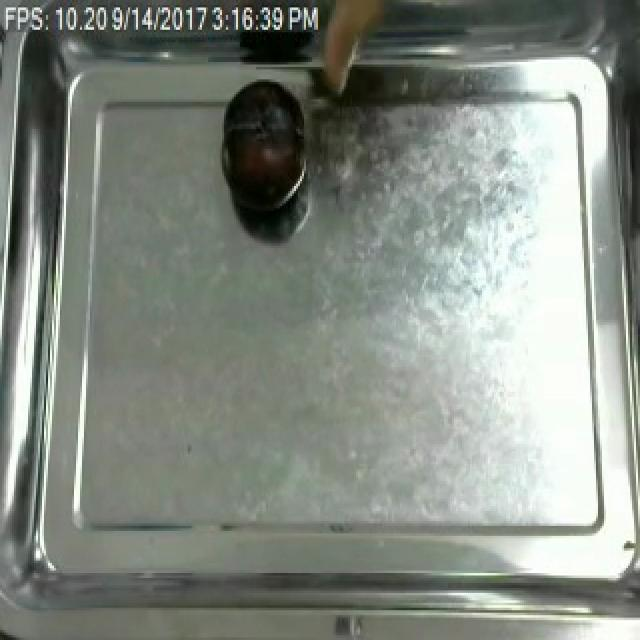Fruit: (218, 77, 310, 223)
